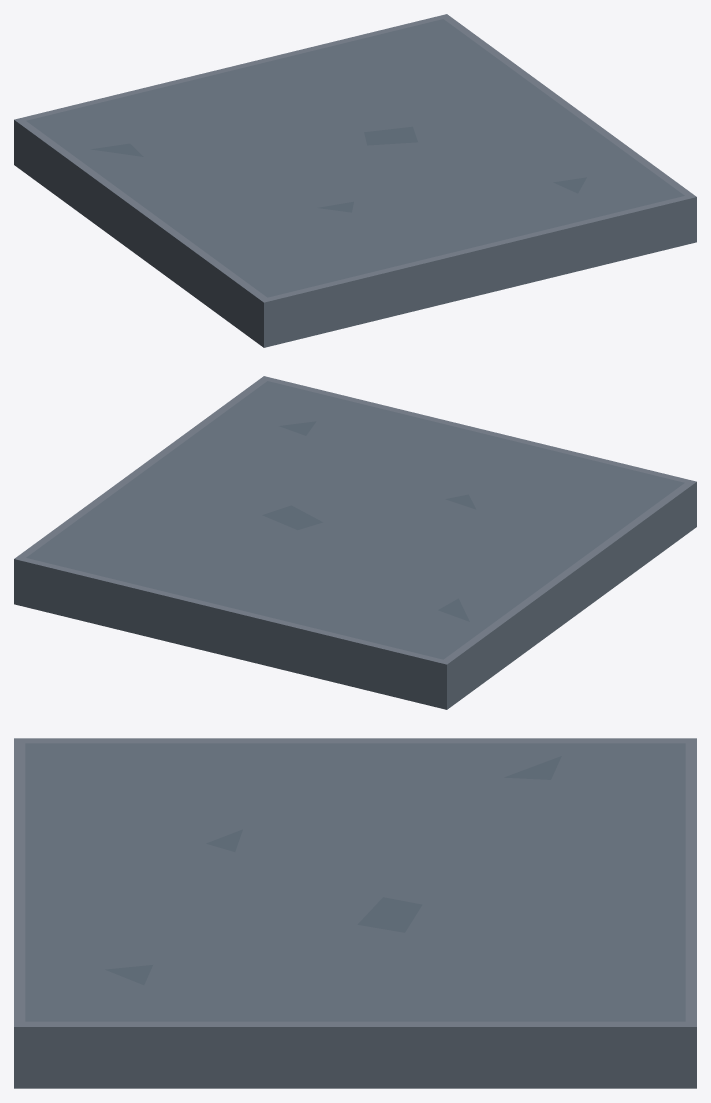
Rendered from ConcrateSlabs_D_2_3.glb.
3 renders of one model, top to bottom at view 1: azimuth 30°, elevation 25°; view 2: azimuth 150°, elevation 25°; view 3: azimuth 270°, elevation 25°, orthographic. The views are drawn at different scales.
Visible parts, largest first — view 1: ConcrateSlabs_D_2_3; view 2: ConcrateSlabs_D_2_3; view 3: ConcrateSlabs_D_2_3.
Boxes of the visible parts, box(x1,y1,x2,y2) form: ConcrateSlabs_D_2_3: box(14, 14, 696, 347); ConcrateSlabs_D_2_3: box(14, 376, 696, 709); ConcrateSlabs_D_2_3: box(14, 738, 696, 1088).
Size of the model in its own units: 4 by 0.4 by 4.
1 material, 1 textured.
